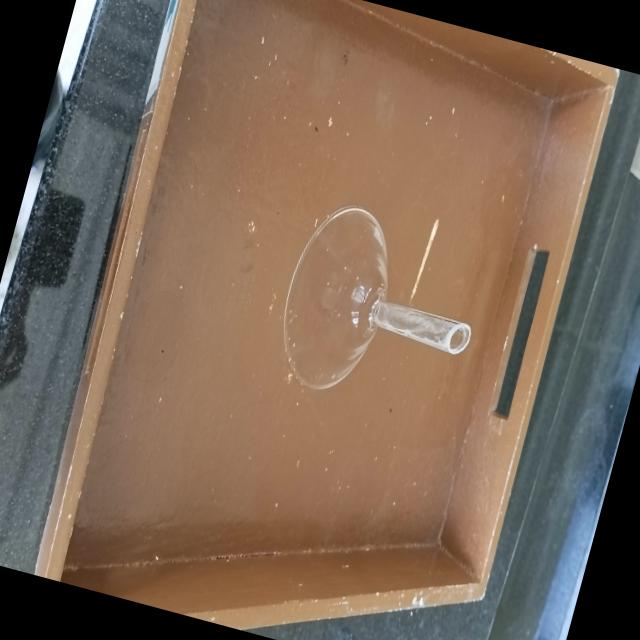funnel: (254, 182, 498, 436)
